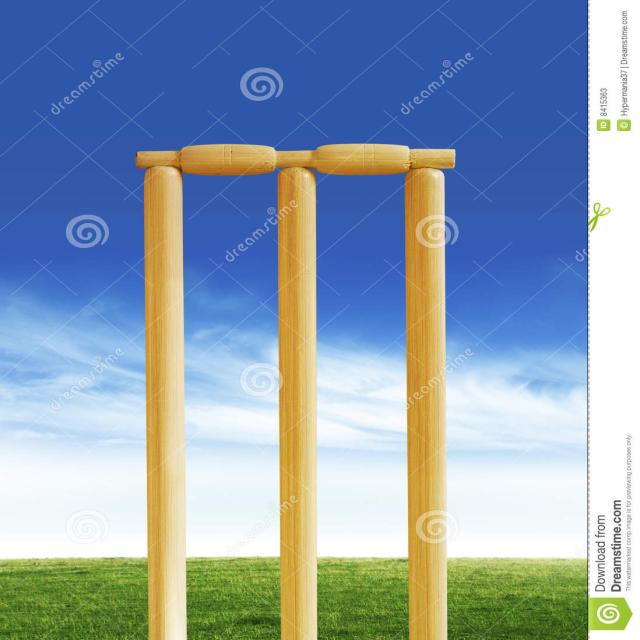stump: (140, 146, 444, 640)
